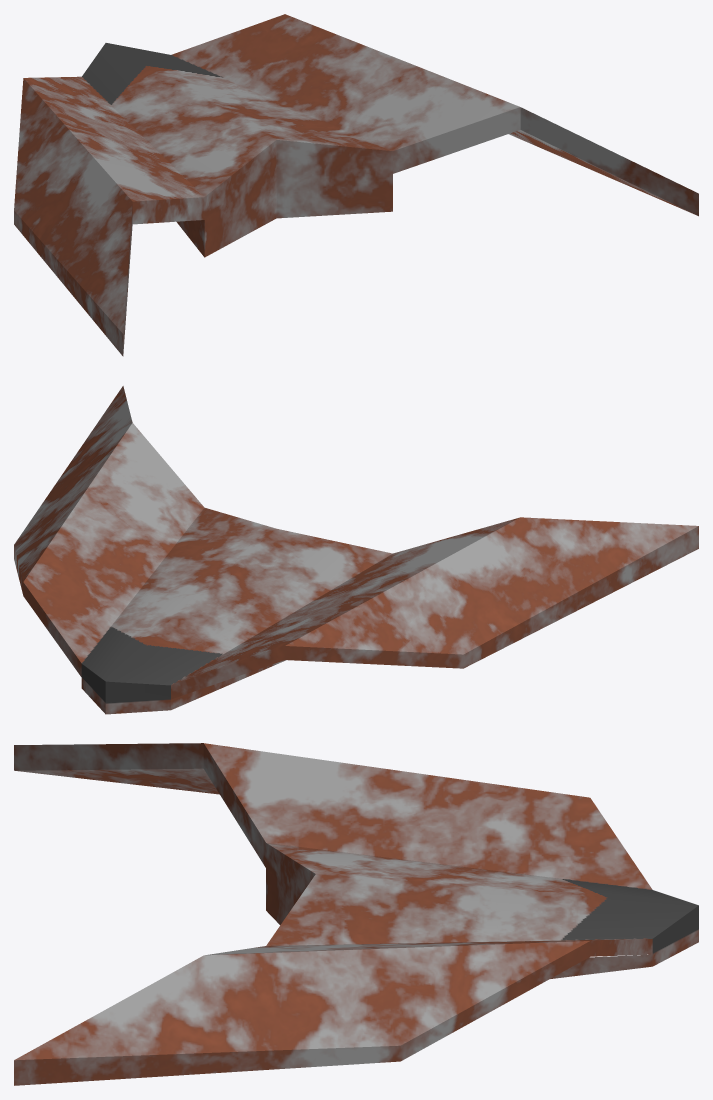
The model's file is PirateOne.fbx.
3 renders of one model, top to bottom at view 1: azimuth 30°, elevation 25°; view 2: azimuth 150°, elevation 25°; view 3: azimuth 270°, elevation 25°, orthographic. The views are drawn at different scales.
Visible parts, largest first — view 1: pirate_1; view 2: pirate_1; view 3: pirate_1.
Part boxes in pixels (x1,y1,x2,y2): pirate_1: [14, 14, 698, 356]; pirate_1: [14, 386, 698, 714]; pirate_1: [14, 743, 698, 1085].
Size of the model in its own units: 12901 by 11852 by 2157.
